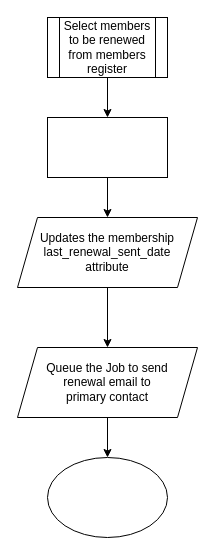
Some shapes in this 215 by 555 pixel diagram are drawn without their labels. Each missing label, with the centre of its shape:
"Click the send renwal email button" goes at pixel 107 147.
"Stop. Wait for queue to process job" goes at pixel 107 497.
